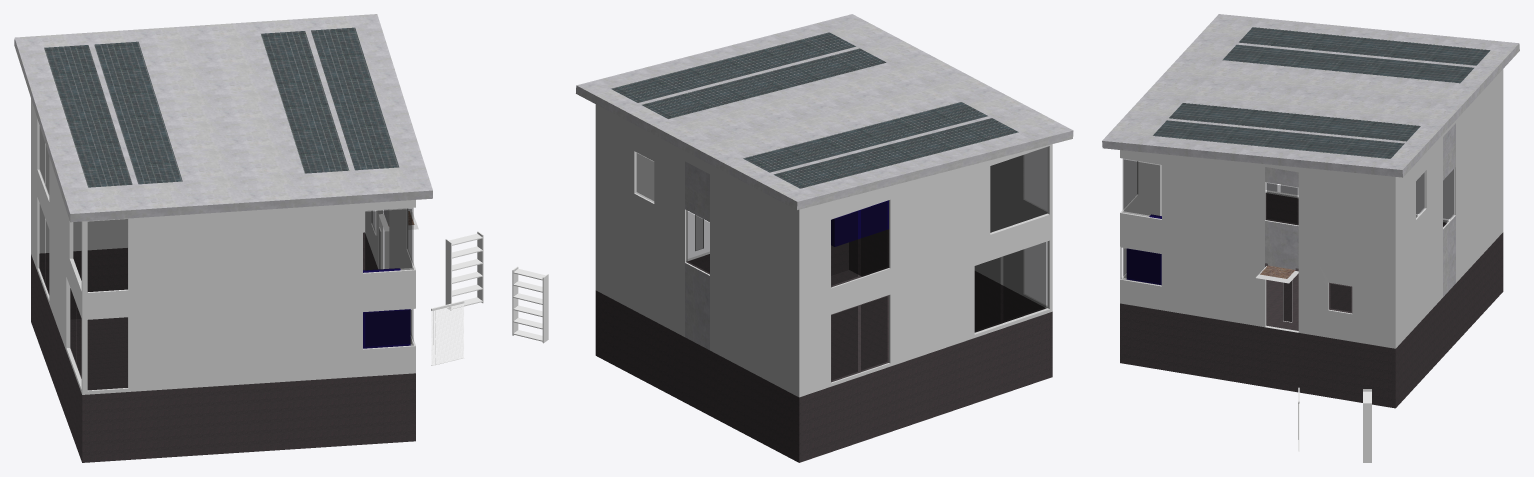
The picture shows the model from 3 angles, left to right: view 1: azimuth 30°, elevation 25°; view 2: azimuth 150°, elevation 25°; view 3: azimuth 270°, elevation 25°; orthographic projection. The views are drawn at different scales.
Visible parts, largest first — view 1: Mesh 67, Mesh 58, Mesh 32, Mesh 75, Mesh 50, Shelves1, Cube, Venetian_slats; view 2: Mesh 67, Mesh 32, Mesh 58, Mesh 75, Mesh 50, Shelves1, Cube; view 3: Mesh 67, Mesh 58, Mesh 32, Mesh 75, Mesh 50, Cube, Shelves1.
Part boxes in pixels (x1,y1,x2,y2): Mesh 67: (31,99,418,394); Mesh 58: (14,14,432,225); Mesh 32: (31,232,415,462); Mesh 75: (44,27,399,187); Mesh 50: (40,128,413,389); Shelves1: (445,231,483,310); Cube: (363,268,410,348); Venetian_slats: (431,303,463,364); Mesh 67: (595,104,1052,397); Mesh 32: (595,229,1052,462); Mesh 58: (576,14,1073,350); Mesh 75: (611,32,1018,188); Mesh 50: (637,147,1047,380); Shelves1: (512,266,548,343); Cube: (831,200,888,246); Mesh 67: (1120,69,1503,348); Mesh 58: (1102,14,1519,296); Mesh 32: (1120,193,1503,408); Mesh 75: (1153,27,1490,158); Mesh 50: (1123,159,1454,321); Cube: (1126,214,1161,285); Shelves1: (1363,389,1371,462).
Bounding box in the file's own units: 15.25 × 9.05 × 12.7.
Materials: 11 (6 with a texture image).
